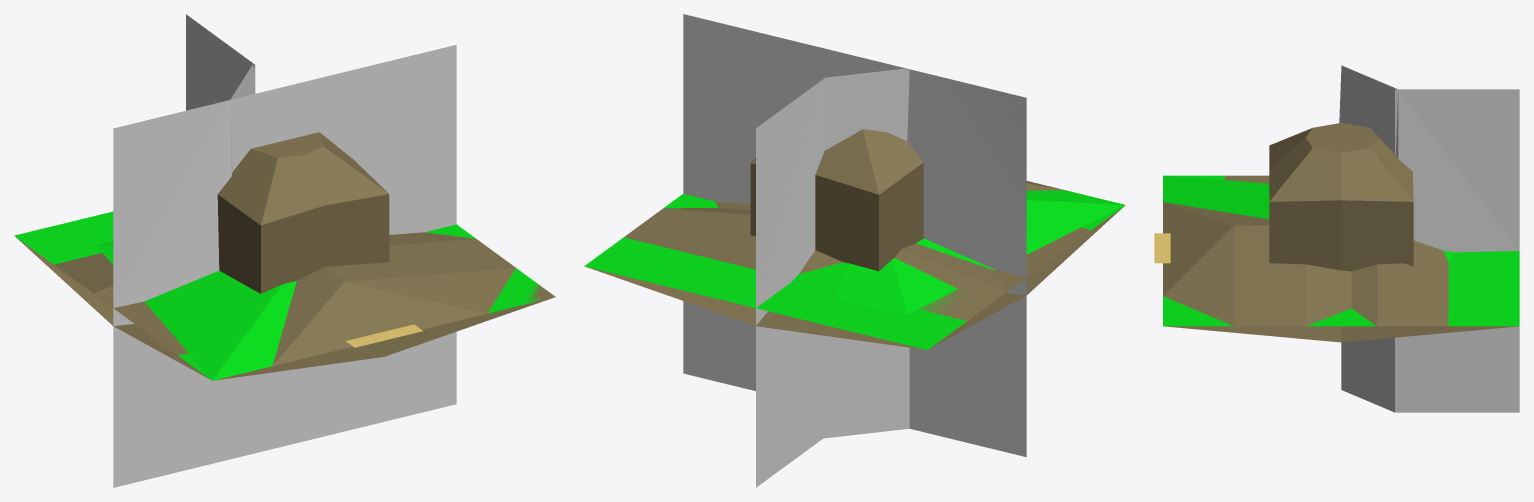
The model's file is WFC Modules.fbx.
3 renders of one model, left to right at view 1: azimuth 30°, elevation 25°; view 2: azimuth 150°, elevation 25°; view 3: azimuth 270°, elevation 25°, orthographic. The views are drawn at different scales.
Parts seen in each view (by area): view 1: Ramp, GoldCorner, Ground_Portal, RampReceiver, OutCornerRamp, OutReceiver, GoldMiddle, GoldSide, Ground; view 2: Down, OutCornerRamp, OutReceiver, Ramp, RampReceiver, GoldSide, Ground_Portal, GoldCorner, Ground, GoldMiddle; view 3: Ground_Portal, GoldCorner, OutCornerRamp, InCornerRamp, Down, GoldSide, GoldMiddle, Ground.
Part boxes in pixels (x1,y1,x2,y2): Ramp: (113, 44, 456, 307); GoldCorner: (97, 232, 555, 380); Ground_Portal: (217, 132, 422, 347); RampReceiver: (219, 331, 456, 459); OutCornerRamp: (113, 14, 542, 313); OutReceiver: (113, 308, 230, 487); GoldMiddle: (15, 236, 554, 380); GoldSide: (54, 253, 211, 379); Ground: (14, 211, 113, 264); Down: (756, 68, 1026, 307); OutCornerRamp: (584, 69, 1026, 306); OutReceiver: (756, 308, 941, 487); Ramp: (683, 14, 905, 204); RampReceiver: (683, 278, 1026, 457); GoldSide: (585, 206, 1123, 349); Ground_Portal: (750, 129, 923, 271); GoldCorner: (715, 181, 1125, 314); Ground: (658, 267, 966, 349); GoldMiddle: (928, 206, 1124, 349); Ground_Portal: (1154, 123, 1413, 271); GoldCorner: (1163, 175, 1454, 326); OutCornerRamp: (1163, 65, 1519, 326); InCornerRamp: (1341, 326, 1519, 412); Down: (1341, 67, 1519, 250); GoldSide: (1166, 175, 1448, 326); GoldMiddle: (1165, 326, 1517, 342); Ground: (1448, 251, 1519, 293).
Bounding box in the file's own units: 200 × 200 × 205.
